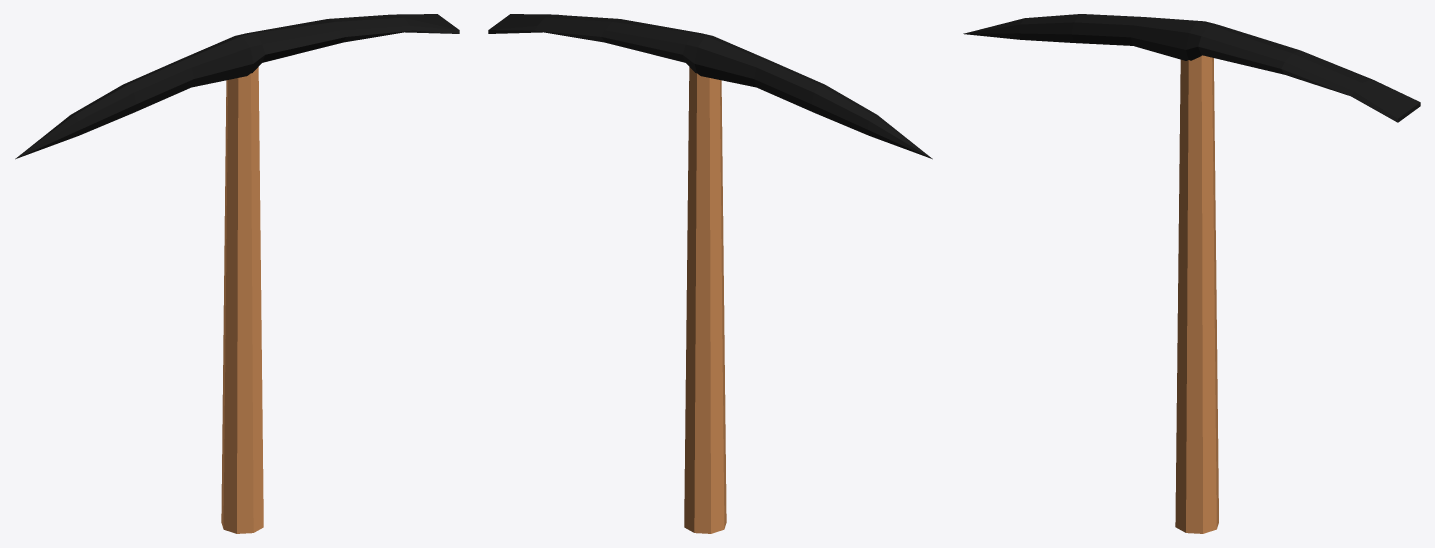
The model's file is pickaxe_item.glb.
3 renders of one model, left to right at view 1: azimuth 30°, elevation 25°; view 2: azimuth 150°, elevation 25°; view 3: azimuth 330°, elevation 25°, orthographic. The views are drawn at different scales.
Parts seen in each view (by area): view 1: Pickaxe; view 2: Pickaxe; view 3: Pickaxe.
Part boxes in pixels (bbox=[...]): Pickaxe: bbox=[15, 14, 459, 533]; Pickaxe: bbox=[488, 14, 932, 533]; Pickaxe: bbox=[963, 14, 1420, 533].
Bounding box in the file's own units: 1.14 × 1.23 × 0.1.
